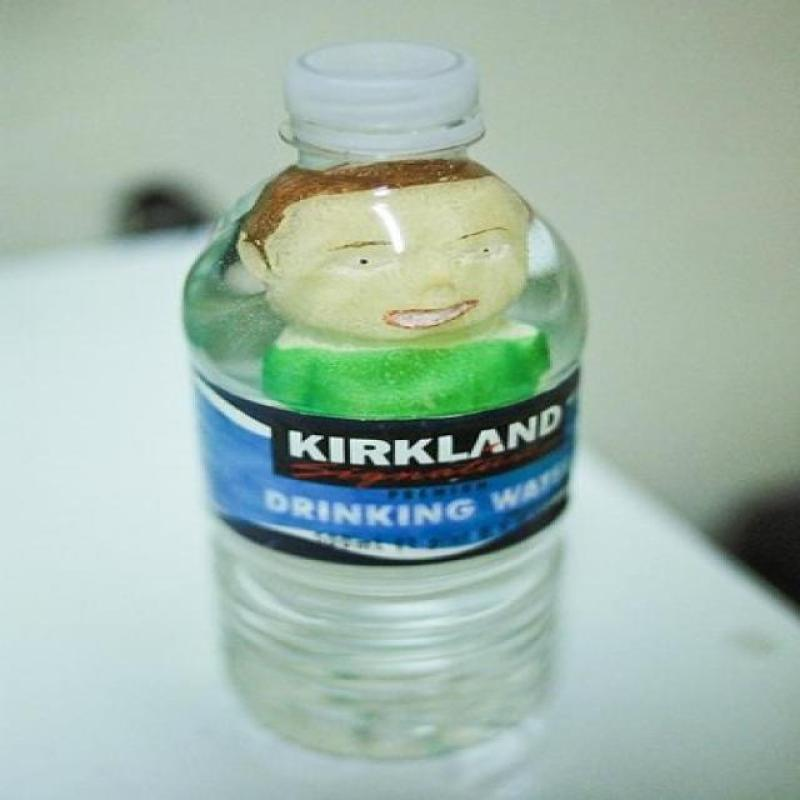botella: (183, 41, 588, 762)
